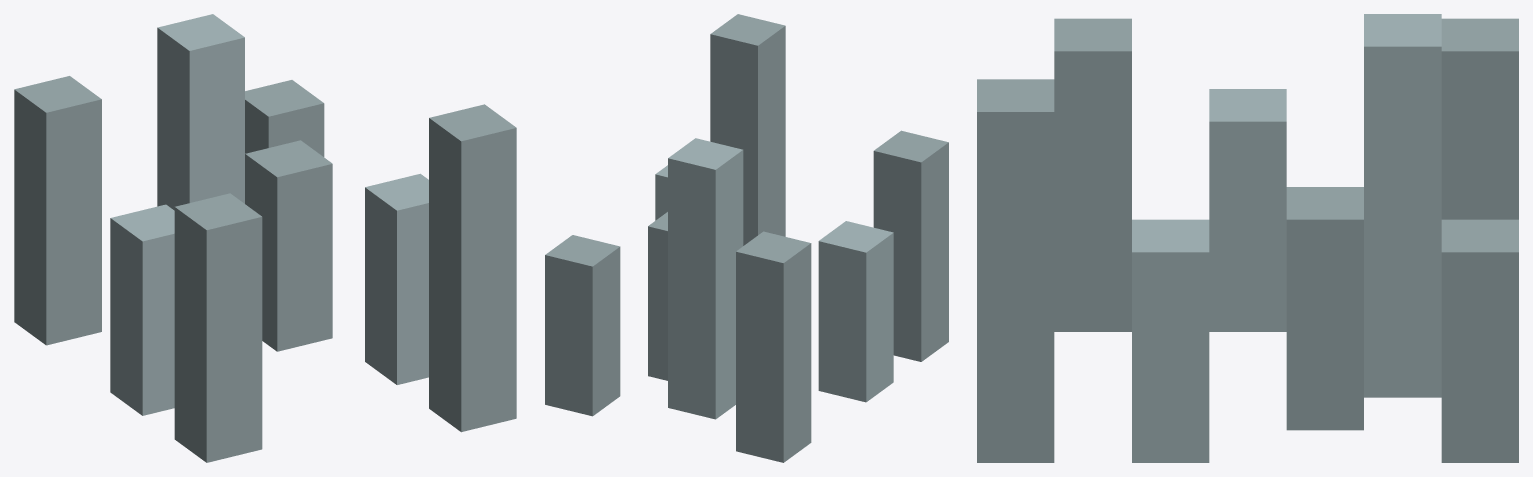
Rendered from cardo_maritimo_02.glb.
The picture shows the model from 3 angles, left to right: view 1: azimuth 30°, elevation 25°; view 2: azimuth 150°, elevation 25°; view 3: azimuth 270°, elevation 25°; orthographic projection. The views are drawn at different scales.
Visible parts, largest first — view 1: cardo_maritimo_02; view 2: cardo_maritimo_02; view 3: cardo_maritimo_02.
Part boxes in pixels (x1=…): cardo_maritimo_02: x1=14, y1=14, x2=516, y2=462; cardo_maritimo_02: x1=545, y1=14, x2=948, y2=462; cardo_maritimo_02: x1=977, y1=14, x2=1518, y2=462.
Size of the model in its own units: 0.5 by 0.5 by 0.7.
